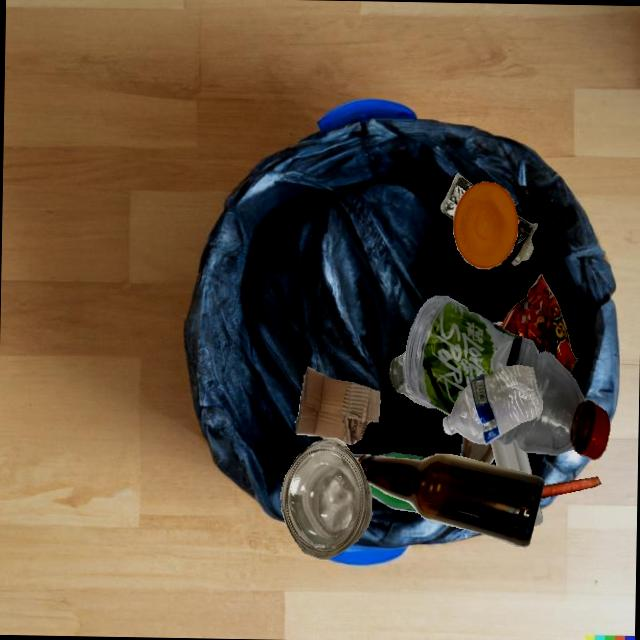biowaste: (540, 476, 600, 498)
cardboard: (295, 366, 380, 445)
glass: (357, 453, 544, 547), (280, 437, 372, 559), (389, 349, 435, 408), (357, 455, 408, 502), (368, 484, 418, 512), (460, 435, 494, 464), (379, 451, 427, 459), (353, 454, 362, 459)
plastic: (404, 295, 610, 460), (442, 364, 542, 444), (453, 181, 518, 269), (505, 214, 538, 265), (439, 172, 473, 221), (490, 439, 532, 474)
trash: (500, 274, 578, 374)
